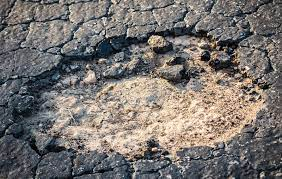potholes: (66, 29, 150, 83)
